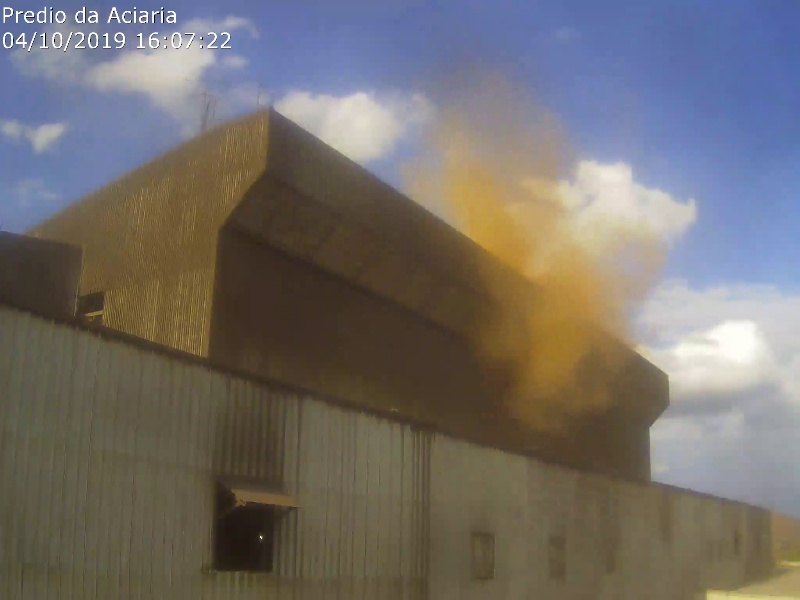bom: (2, 4, 299, 182), (317, 1, 799, 44)
pessimo: (436, 200, 701, 445)
ruim: (406, 45, 601, 213)
